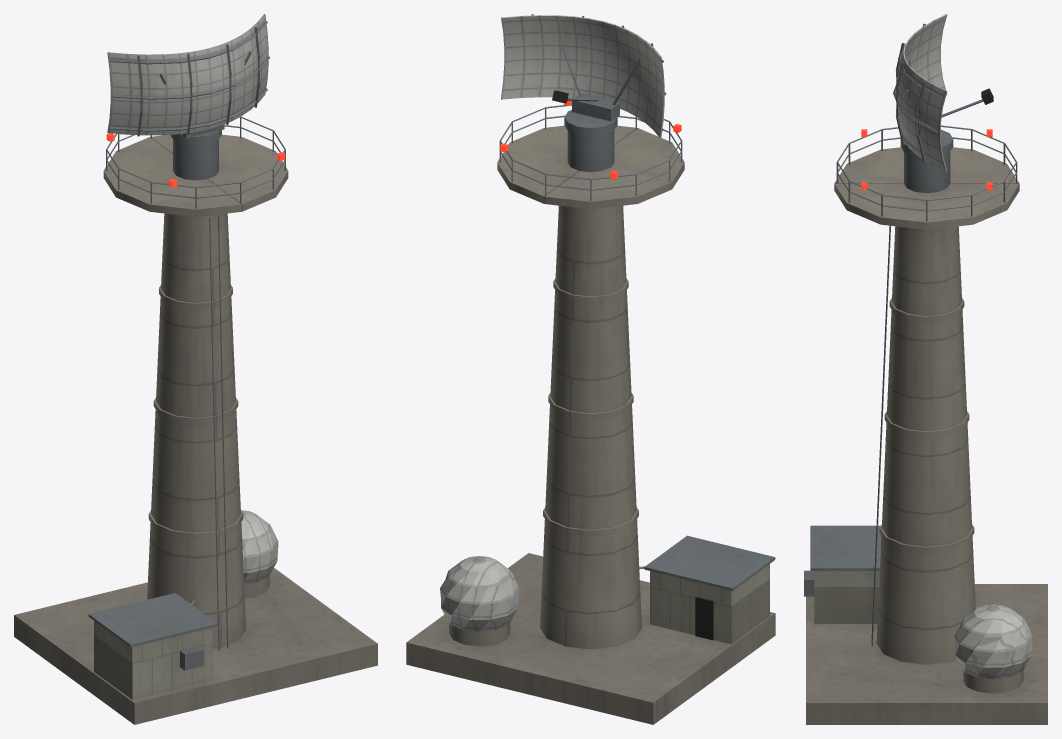
The model's file is radar_tower.glb.
The picture shows the model from 3 angles, left to right: view 1: azimuth 30°, elevation 25°; view 2: azimuth 150°, elevation 25°; view 3: azimuth 270°, elevation 25°; orthographic projection.
Visible parts, largest first — view 1: lod0, antenna; view 2: lod0, antenna; view 3: lod0, antenna.
Part boxes in pixels (box(x1,y1,x2,y2)): lod0: box(14, 116, 377, 724); antenna: box(107, 14, 269, 145); lod0: box(406, 100, 775, 724); antenna: box(501, 14, 666, 138); lod0: box(804, 125, 1047, 724); antenna: box(893, 14, 993, 171).
Size of what is drawn, in the model's own units: 14.1 by 33.57 by 12.1.
Materials: 2 (1 with a texture image).
